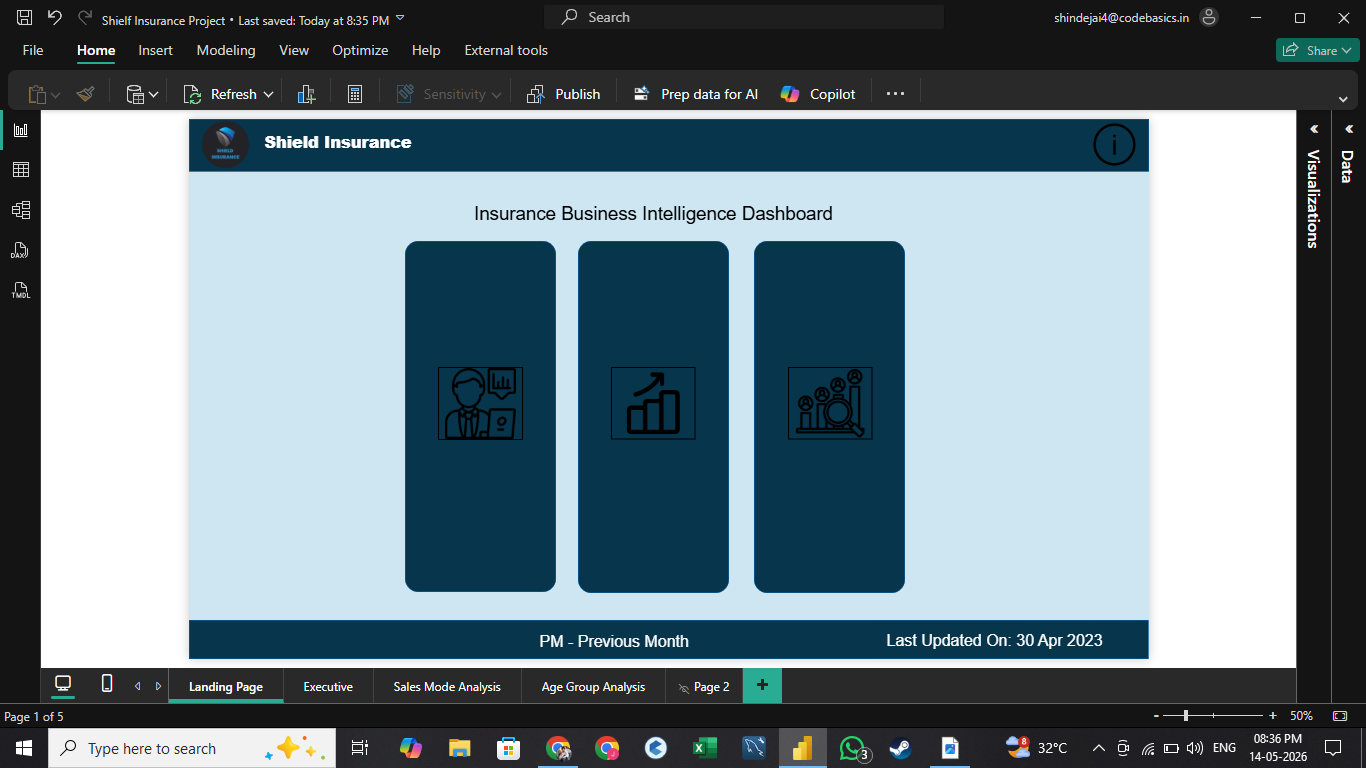

What the dashboard file says about the page in this screenshot:
{"tool":"powerbi","page":{"name":"Landing Page","canvas":[1920,1080],"ordinal":0},"visuals":[{"type":"shape","box":[0,0,1920,105],"z":0},{"type":"shape","box":[0,1001.9,1919.3,78.1],"z":1000},{"type":"shape","box":[778,244,302,704],"z":2000},{"type":"image","box":[844.3,496.3,169.2,145.3],"z":3000},{"type":"shape","box":[1130,244,302,704],"z":4000},{"type":"image","box":[1197,496.3,169.2,145.3],"z":5000},{"type":"shape","box":[432,244,302,702],"z":6000},{"type":"image","box":[498,495.9,170,146],"z":7000},{"type":"textbox","box":[696.1,1008.3,325.3,58.6],"z":8000},{"type":"image","box":[0,0,145.3,101.9],"z":9000},{"type":"textbox","box":[364,162,1130,82],"z":10000},{"type":"cardVisual","fields":{"Data":["Key Measures.Last Updated On"]},"box":[1366,998.6,554,78],"z":11000},{"type":"textbox","box":[145.3,17.3,433.7,67.2],"z":12000},{"type":"actionButton","box":[1800,0,120,96],"z":15000},{"type":"textbox","box":[48,1013.6,384,48],"z":16000},{"type":"image","box":[400,1008,96,48],"z":17000}]}

Visuals, with their boxes on the page's 1920x1080 design canvas (x1, y1, x2, y2). These are canvas units, not pixel positions in the 1366x768 screenshot, which may show the page scaled, cropped or inside an application window:
shape: [left=0, top=0, right=1920, bottom=105]
shape: [left=0, top=1002, right=1919, bottom=1080]
shape: [left=778, top=244, right=1080, bottom=948]
image: [left=844, top=496, right=1014, bottom=642]
shape: [left=1130, top=244, right=1432, bottom=948]
image: [left=1197, top=496, right=1366, bottom=642]
shape: [left=432, top=244, right=734, bottom=946]
image: [left=498, top=496, right=668, bottom=642]
textbox: [left=696, top=1008, right=1021, bottom=1067]
image: [left=0, top=0, right=145, bottom=102]
textbox: [left=364, top=162, right=1494, bottom=244]
cardVisual - Key Measures.Last Updated On: [left=1366, top=999, right=1920, bottom=1077]
textbox: [left=145, top=17, right=579, bottom=84]
actionButton: [left=1800, top=0, right=1920, bottom=96]
textbox: [left=48, top=1014, right=432, bottom=1062]
image: [left=400, top=1008, right=496, bottom=1056]
